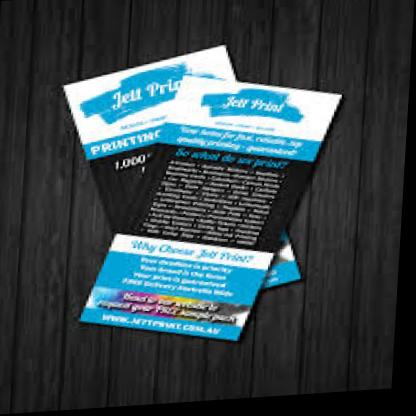Paper: (25, 12, 360, 367)
